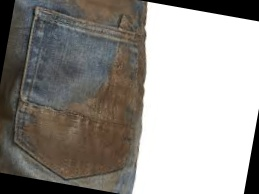earth: (27, 105, 128, 172), (101, 61, 133, 121), (75, 0, 131, 18), (84, 95, 104, 116)
